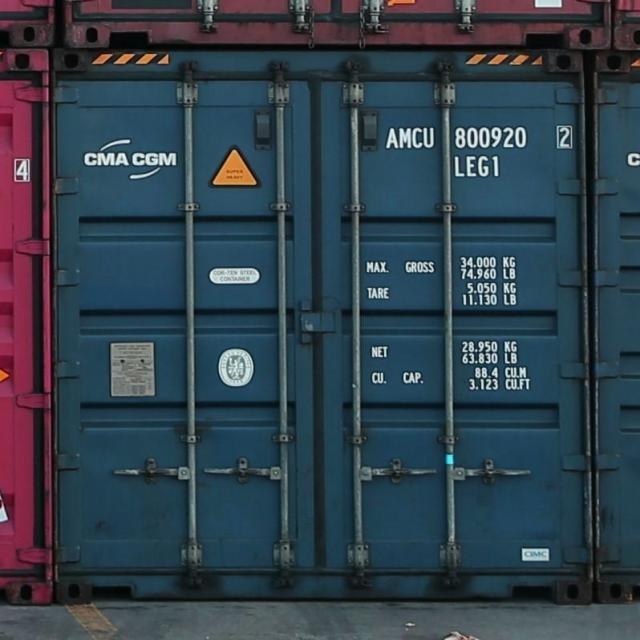ISO: (456, 156, 502, 178)
container_number: (387, 124, 569, 150)
